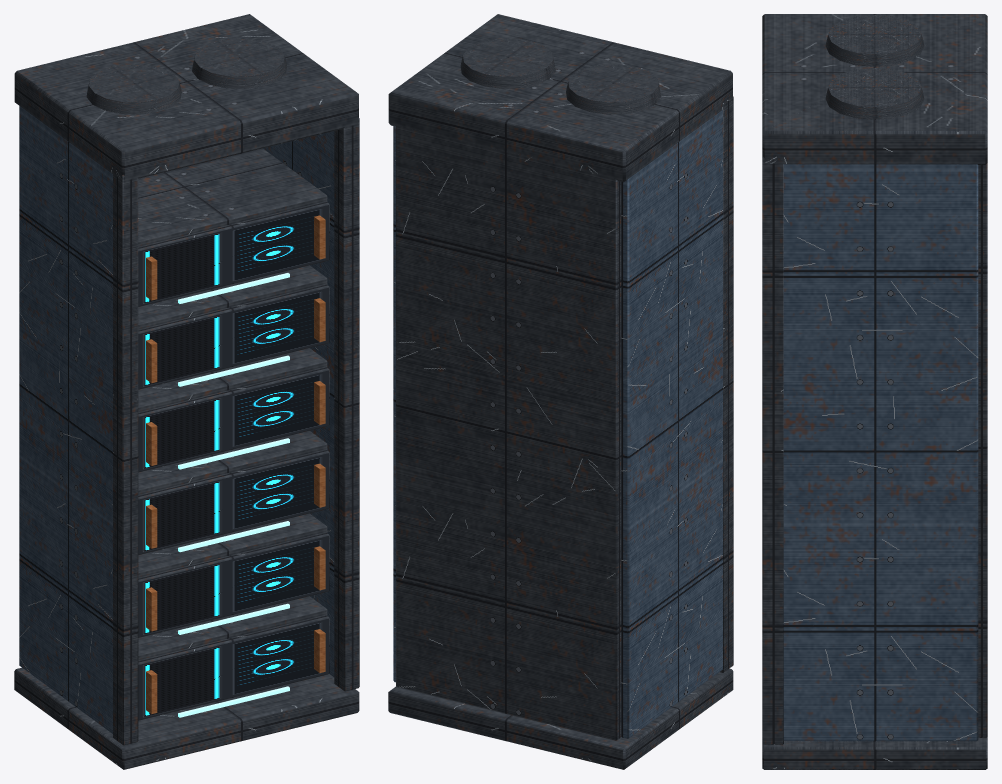
Rendered from modular-server-rack-07.glb.
The picture shows the model from 3 angles, left to right: view 1: azimuth 30°, elevation 25°; view 2: azimuth 150°, elevation 25°; view 3: azimuth 270°, elevation 25°; orthographic projection. The views are drawn at different scales.
Visible parts, largest first — view 1: rack_servidor; view 2: rack_servidor; view 3: rack_servidor.
Part boxes in pixels (x1,y1,x2,y2): rack_servidor: (14, 14, 359, 769); rack_servidor: (388, 14, 733, 769); rack_servidor: (762, 14, 987, 769).
Size of the model in its own units: 0.9 by 2.29 by 0.72.
Materials: 5 (4 with a texture image).
